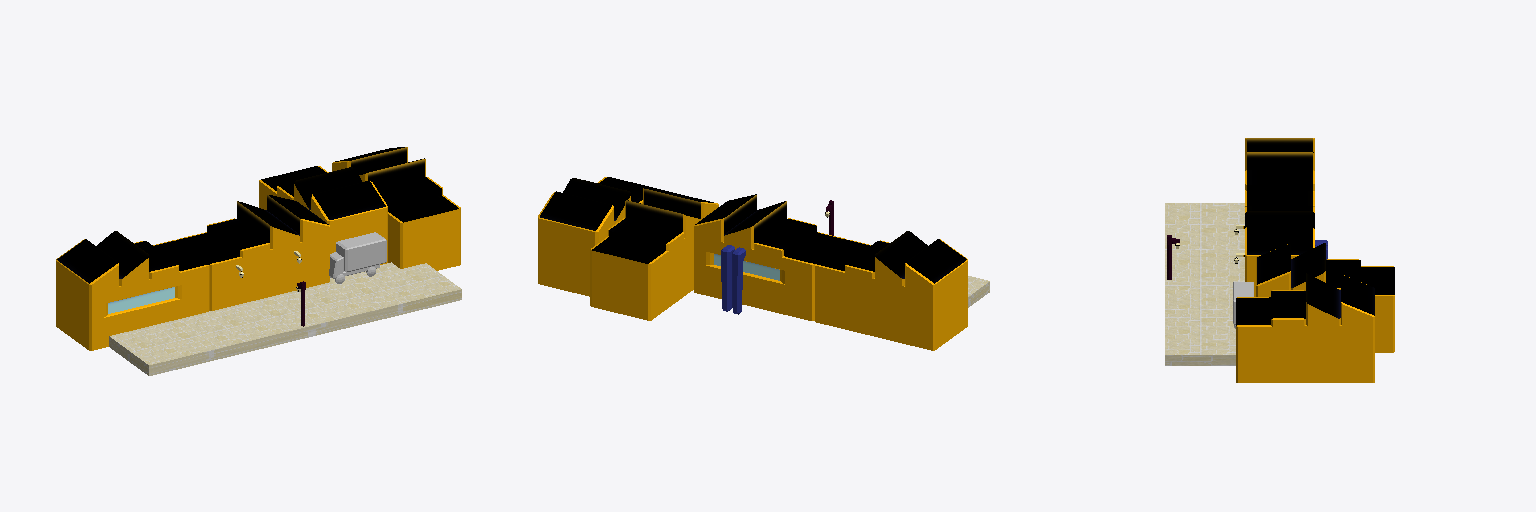
3 renders of one model, left to right at view 1: azimuth 30°, elevation 25°; view 2: azimuth 150°, elevation 25°; view 3: azimuth 270°, elevation 25°, orthographic.
Parts seen in each view (by area): view 1: yuka.001, 立方体.011, 立方体.010, 立方体.013, 立方体.012, 立方体.008; view 2: 立方体.011, 立方体.010, 立方体.012, 立方体.013, 立方体.009; view 3: 立方体.013, yuka.001, 立方体.012, 立方体.011, 立方体.010.
Boxes of the visible parts, box(x1,y1,x2,y2) form: yuka.001: box(109, 262, 461, 375); 立方体.011: box(56, 231, 209, 350); 立方体.010: box(177, 195, 329, 310); 立方体.013: box(332, 147, 460, 270); 立方体.012: box(259, 166, 387, 264); 立方体.008: box(336, 232, 386, 271); 立方体.011: box(815, 231, 967, 350); 立方体.010: box(694, 194, 846, 320); 立方体.012: box(590, 188, 718, 320); 立方体.013: box(538, 177, 660, 296); 立方体.009: box(721, 245, 745, 314); 立方体.013: box(1236, 273, 1374, 382); yuka.001: box(1165, 203, 1244, 365); 立方体.012: box(1256, 243, 1394, 352); 立方体.011: box(1245, 138, 1314, 206); 立方体.010: box(1245, 206, 1314, 296).
Size of the model in its own units: 70.49 by 15.96 by 38.35.
Materials: 8 (3 with a texture image).